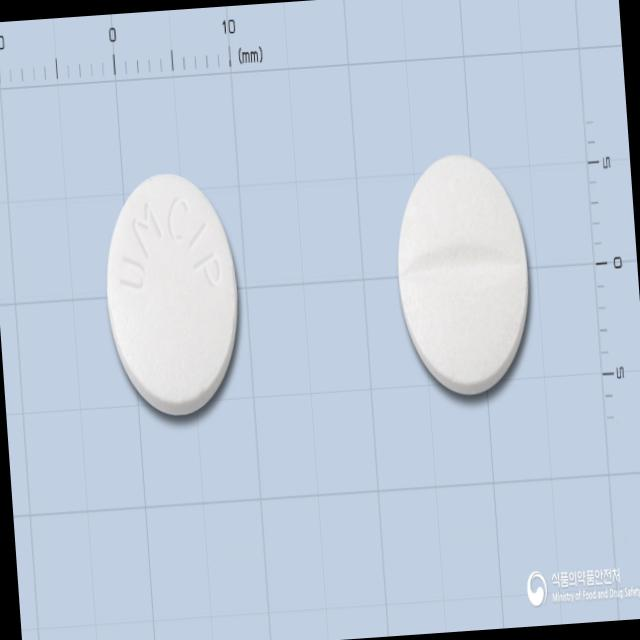Ciprofloxacin HCl Tab- Unimed: (95, 162, 252, 426)
